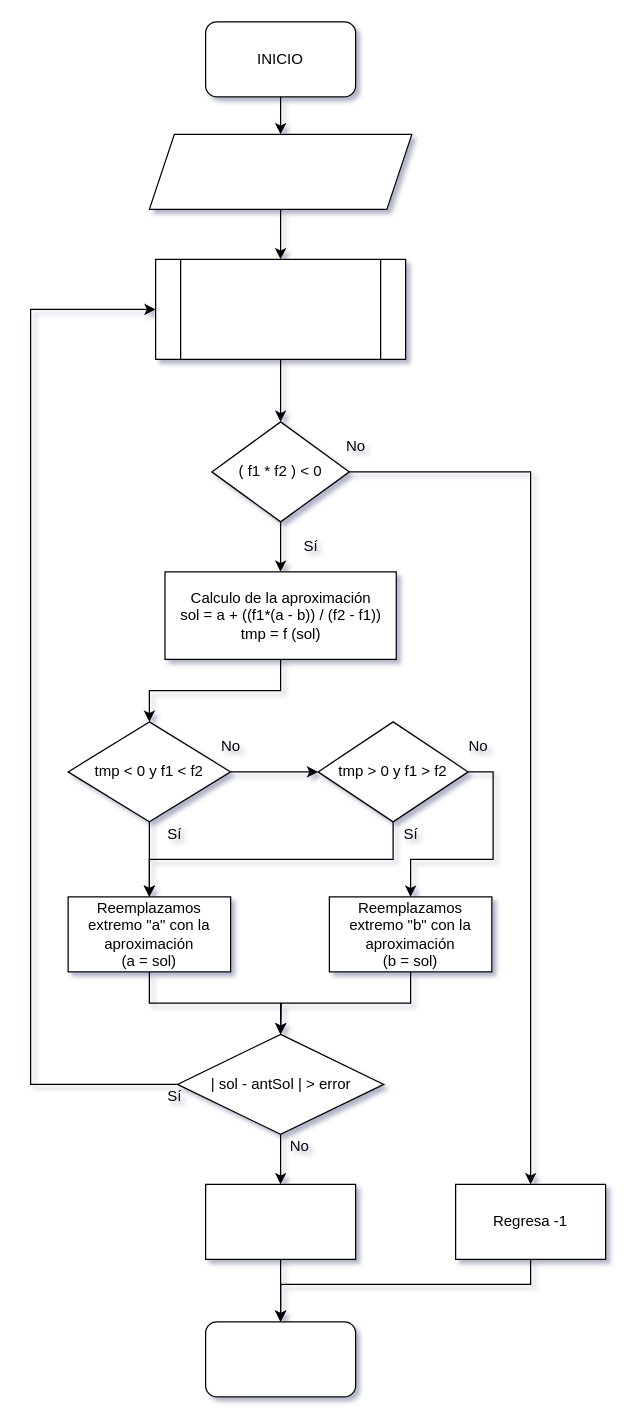
Some shapes in this 635 by 1426 pixel diagram are drawn without their labels. Each missing label, with the centre of its shape:
"Calculo de la función en ambos extremos del intervalo. (f1, f2)" goes at pixel 280 308.
"FIN" goes at pixel 280 1359.
"Recibe la función, el intervalo a trabajar y el porcentaje de error antSol = 0" goes at pixel 280 171.
"Regresa sol" goes at pixel 280 1221.
